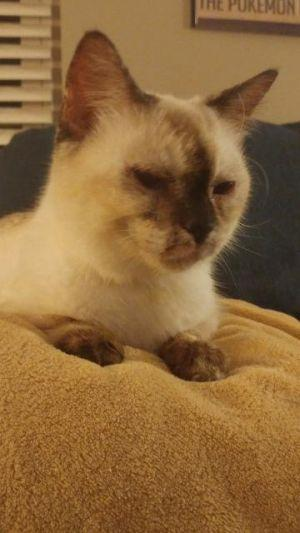siamese: (56, 26, 281, 277)
